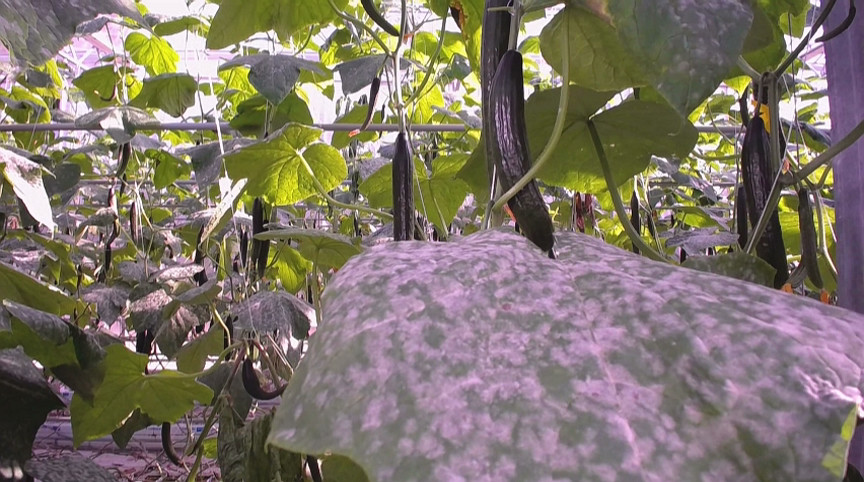cucumber: (491, 51, 554, 252), (740, 118, 791, 286), (389, 133, 415, 241), (797, 187, 824, 290), (361, 1, 400, 37), (251, 197, 264, 259)
